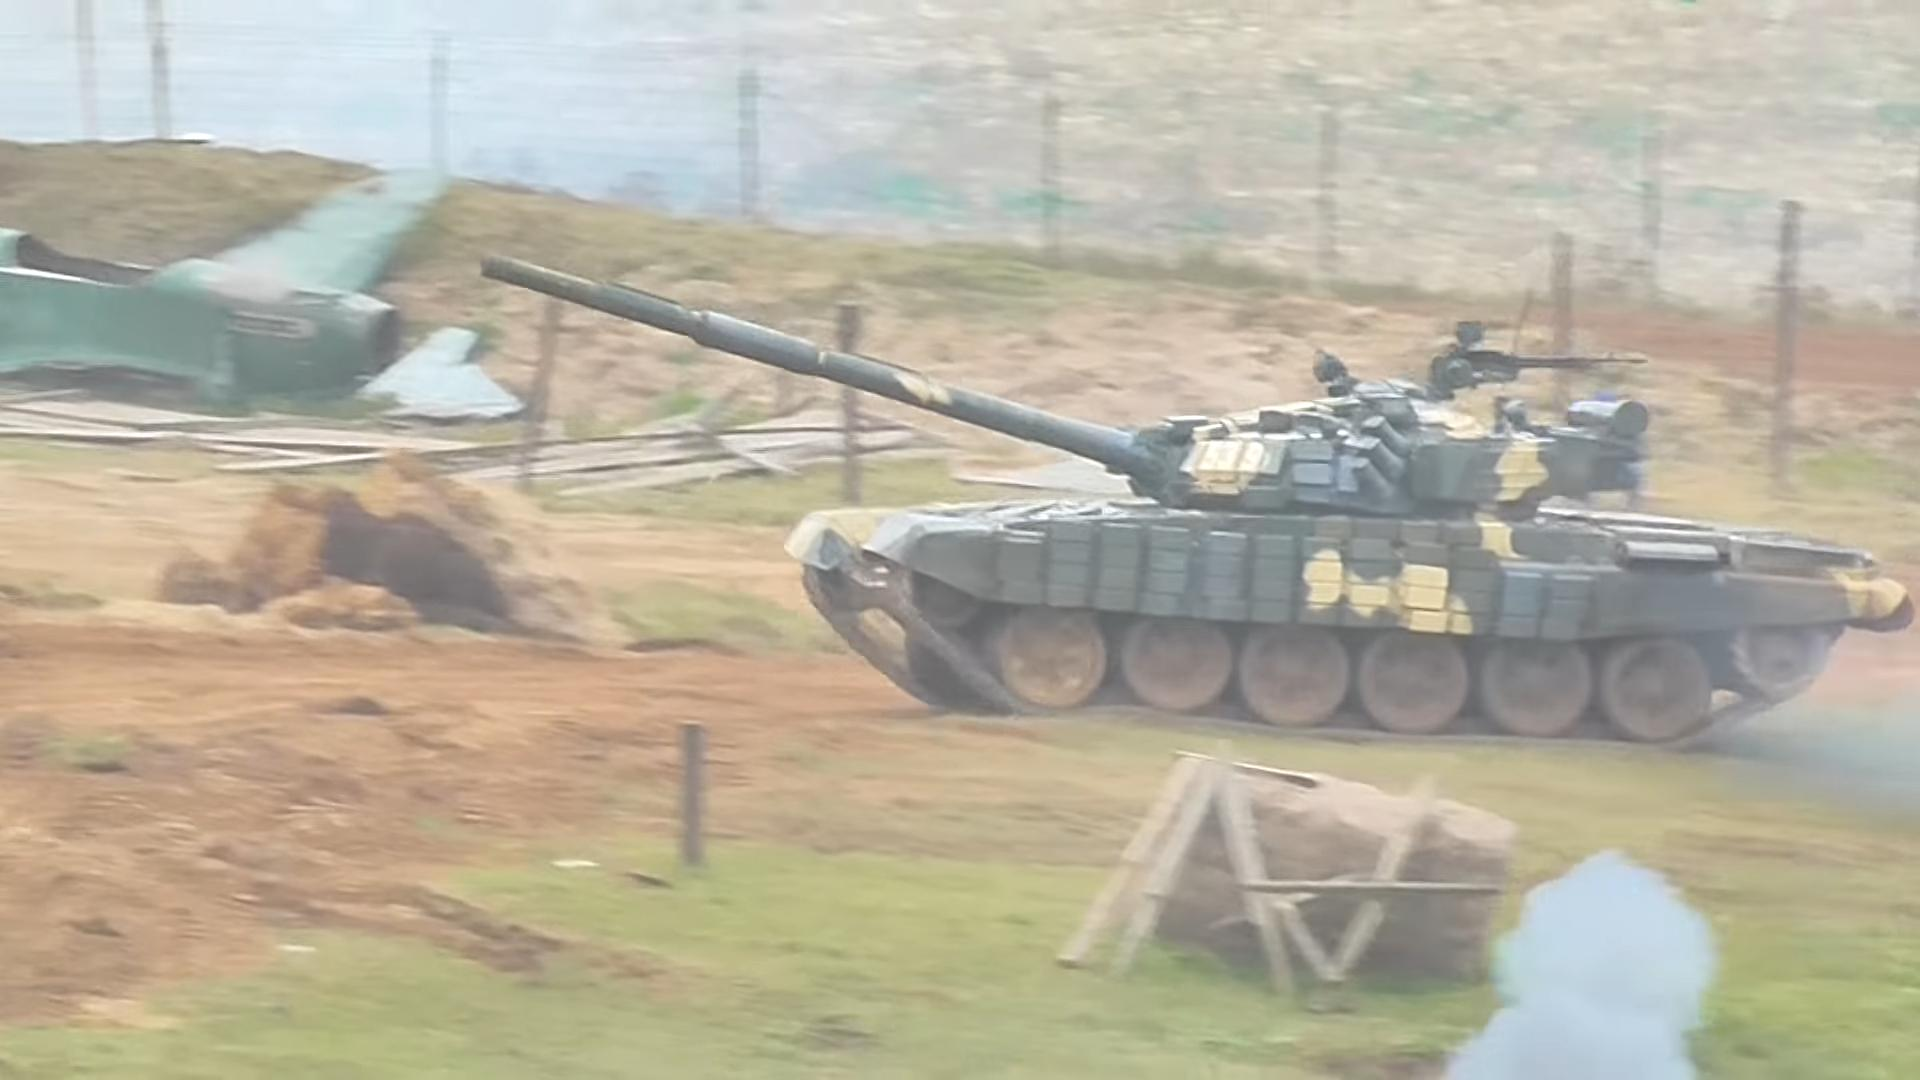tank: (483, 249, 1919, 749)
